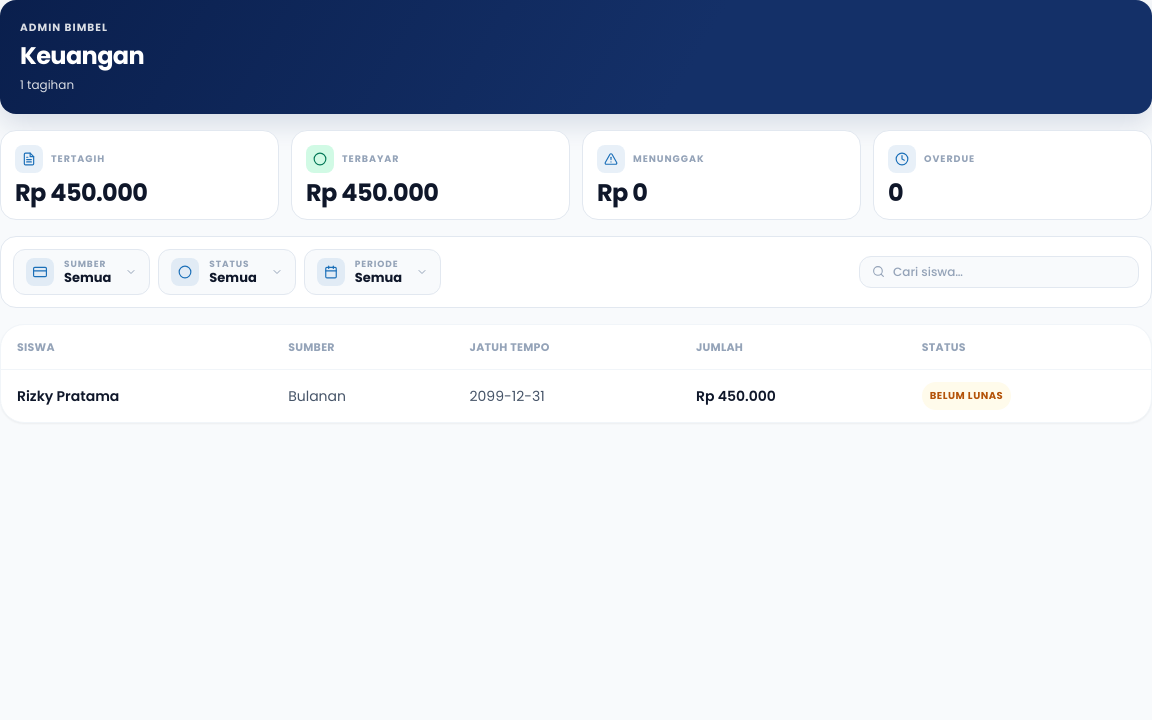
the control tracks the state the bill is actually in › is offered on a bill that is paid
Click the button with test id "bill-row".
click(68, 396)  # box [1, 369, 1151, 422]
(page scrolled)
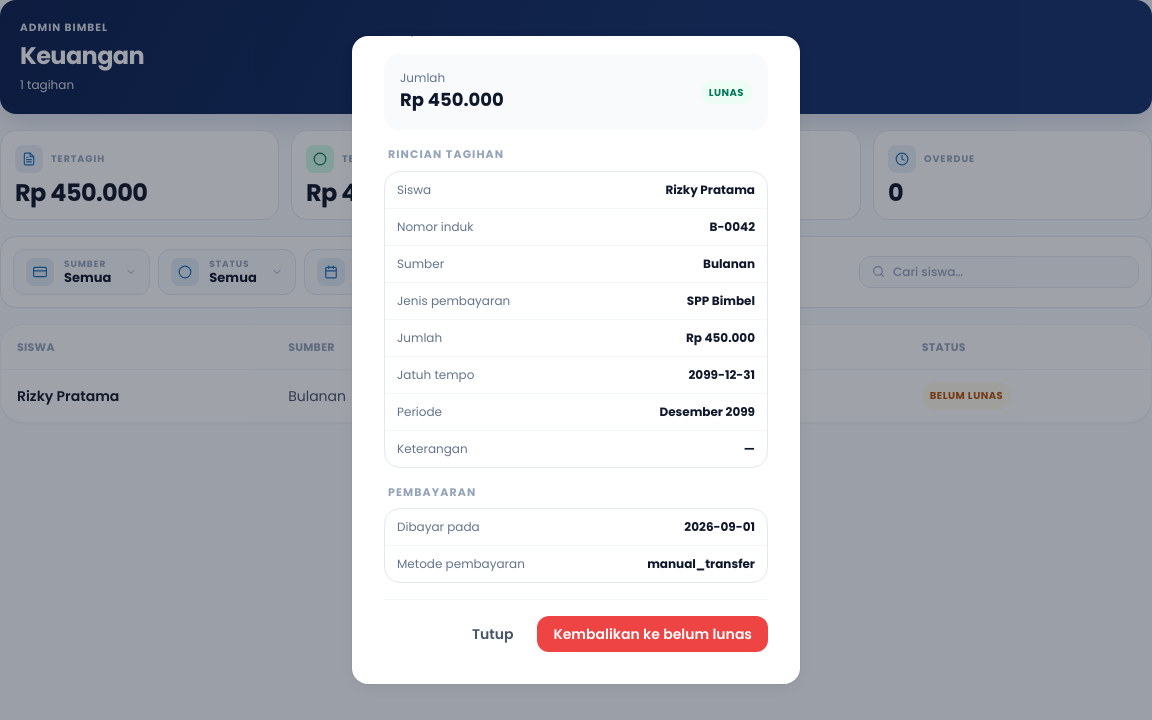
Now the button with test id "bill-detail-revert-paid" is shown, box [537, 616, 768, 652]
